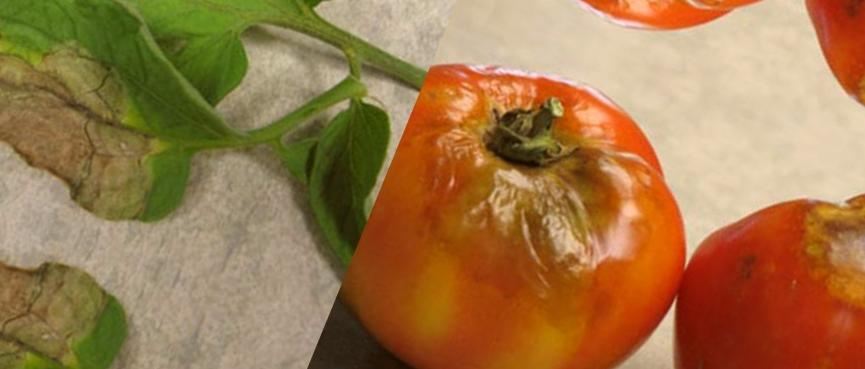Tomato leaf late blight: (0, 0, 289, 289), (33, 0, 399, 141)
